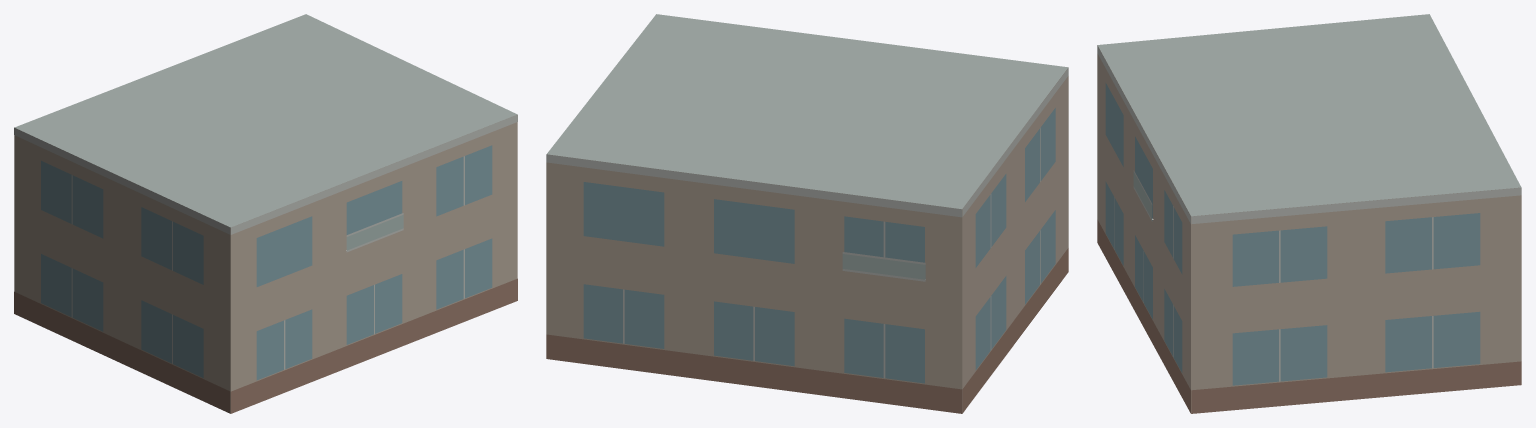
Rendered from survey-upis-32491190.glb.
3 views of the same model, side by side, from view 1: azimuth 30°, elevation 25°; view 2: azimuth 150°, elevation 25°; view 3: azimuth 270°, elevation 25° (orthographic). The views are drawn at different scales.
Visible parts, largest first — view 1: survey-upis-32491190.tmp; view 2: survey-upis-32491190.tmp; view 3: survey-upis-32491190.tmp.
Boxes of the visible parts, x1,y1,x2,y2 form: survey-upis-32491190.tmp: (14, 14, 517, 413); survey-upis-32491190.tmp: (546, 14, 1068, 413); survey-upis-32491190.tmp: (1097, 14, 1521, 413).
Bounding box in the file's own units: 13.41 × 6.1 × 11.88.
